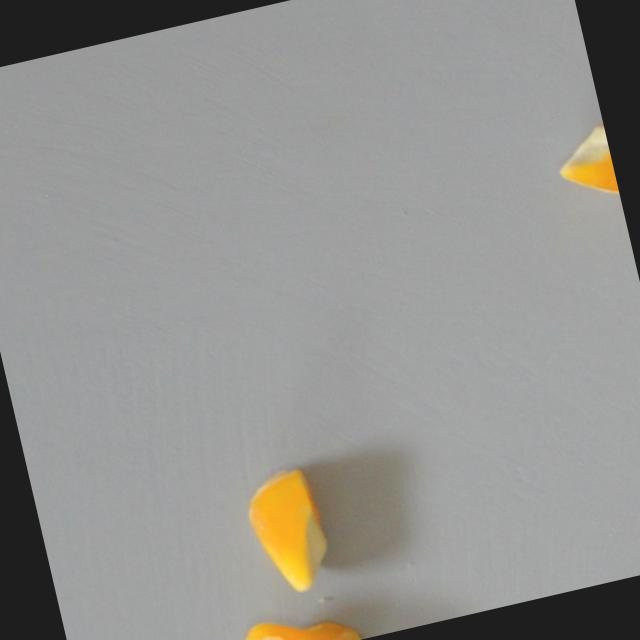estandar: (236, 465, 339, 599)
pelicula: (566, 98, 624, 222), (253, 585, 339, 640)
